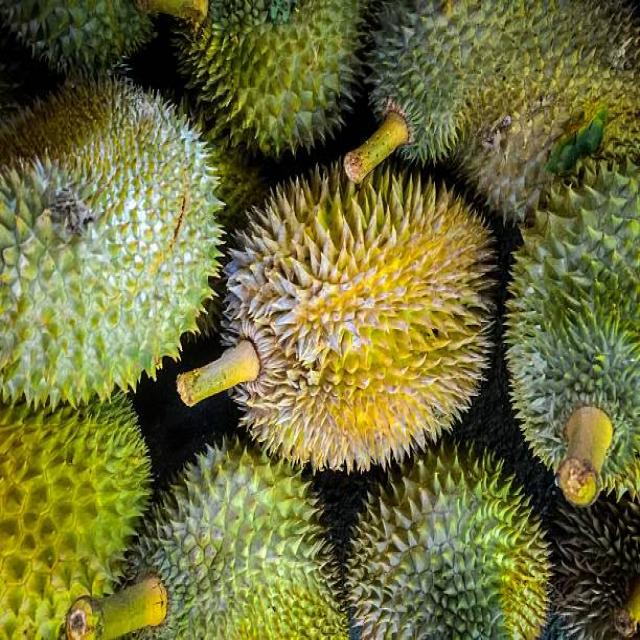defective: (0, 80, 221, 408)
mature: (225, 165, 492, 469)
